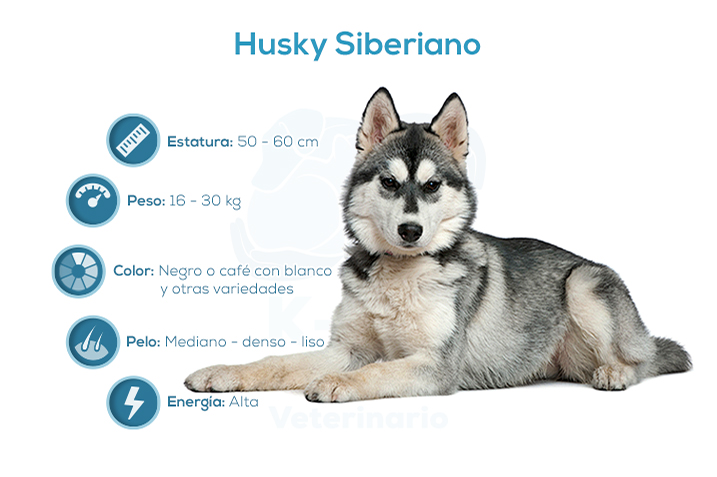husky: (335, 82, 506, 287)
